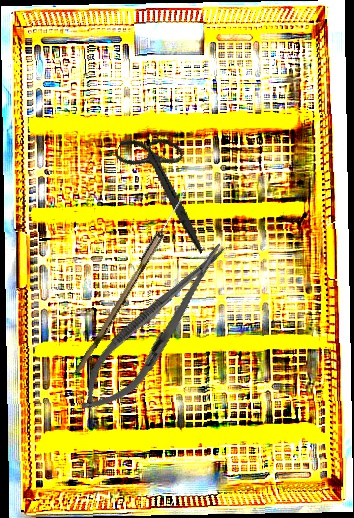Iris Scissors: (92, 121, 241, 254)
Needle Holder: (65, 229, 244, 428)
Surgical Spoon: (74, 179, 195, 377)
